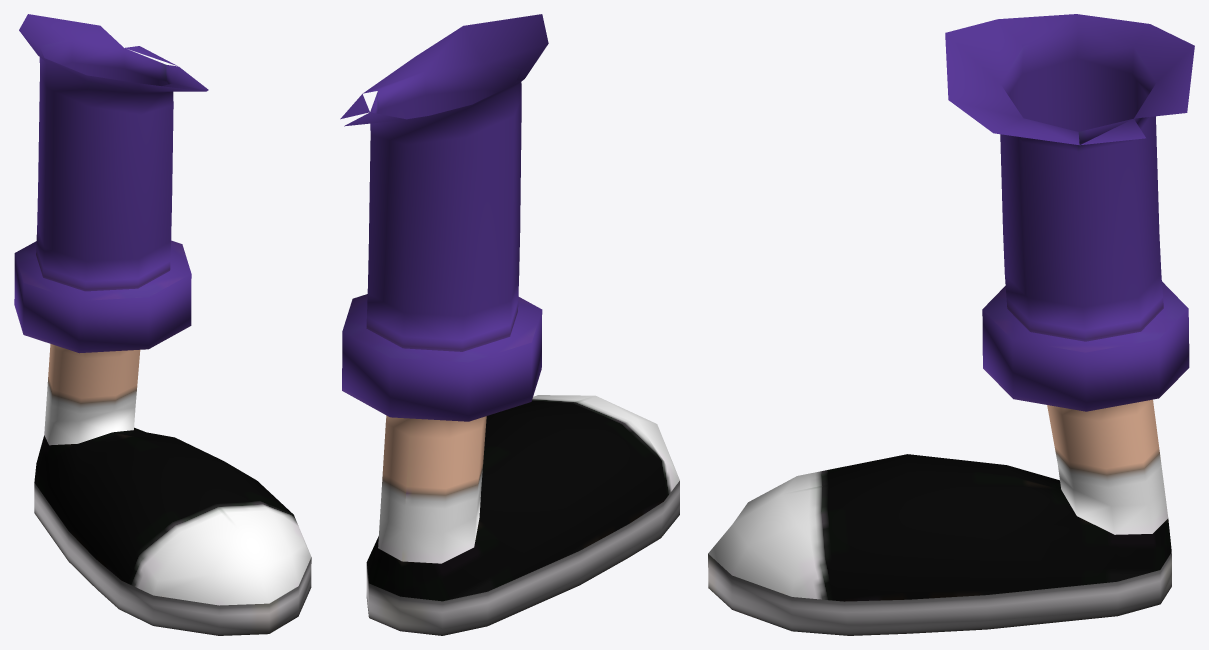
Rendered from Pie_derechoFerb.obj.
The picture shows the model from 3 angles, left to right: view 1: azimuth 30°, elevation 25°; view 2: azimuth 150°, elevation 25°; view 3: azimuth 270°, elevation 25°; orthographic projection. The views are drawn at different scales.
Visible parts, largest first — view 1: PieDerecho; view 2: PieDerecho; view 3: PieDerecho.
Boxes of the visible parts, x1=… form: PieDerecho: x1=14, y1=14, x2=311, y2=635; PieDerecho: x1=340, y1=14, x2=679, y2=635; PieDerecho: x1=708, y1=14, x2=1194, y2=635.
Bounding box in the file's own units: 0.0921 × 0.2403 × 0.1959.
